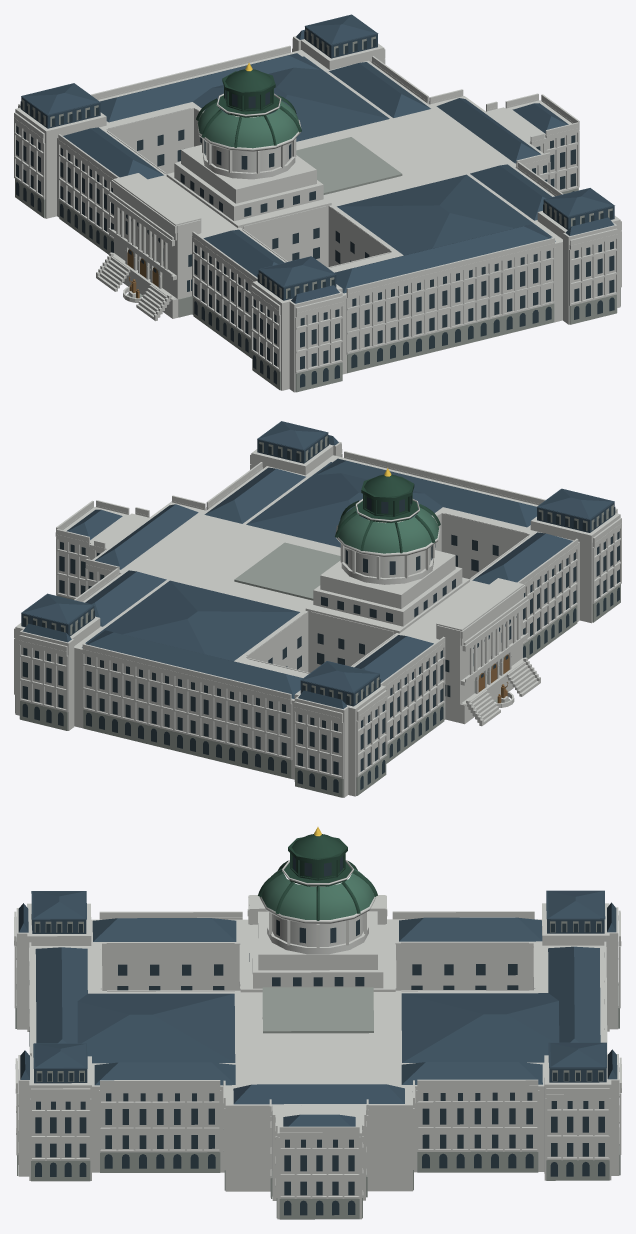
File: library-of-congress-jefferson-far.glb
3 views of the same model, one above another, from view 1: azimuth 30°, elevation 25°; view 2: azimuth 150°, elevation 25°; view 3: azimuth 270°, elevation 25° (orthographic). The views are drawn at different scales.
Visible parts, largest first — view 1: library-of-congress-jefferson-0-stone, library-of-congress-jefferson-0-roof, library-of-congress-jefferson-0-light, library-of-congress-jefferson-0-stone2, library-of-congress-jefferson-0-copper, library-of-congress-jefferson-0-patina; view 2: library-of-congress-jefferson-0-stone, library-of-congress-jefferson-0-roof, library-of-congress-jefferson-0-light, library-of-congress-jefferson-0-stone2, library-of-congress-jefferson-0-copper, library-of-congress-jefferson-0-patina; view 3: library-of-congress-jefferson-0-stone, library-of-congress-jefferson-0-roof, library-of-congress-jefferson-0-light, library-of-congress-jefferson-0-stone2, library-of-congress-jefferson-0-copper, library-of-congress-jefferson-0-patina.
Boxes of the visible parts, x1,y1,x2,y2 form: library-of-congress-jefferson-0-stone: (14, 36, 621, 392); library-of-congress-jefferson-0-roof: (21, 14, 614, 303); library-of-congress-jefferson-0-light: (16, 31, 614, 387); library-of-congress-jefferson-0-stone2: (15, 29, 620, 392); library-of-congress-jefferson-0-copper: (197, 98, 299, 148); library-of-congress-jefferson-0-patina: (196, 69, 301, 147); library-of-congress-jefferson-0-stone: (14, 441, 621, 797); library-of-congress-jefferson-0-roof: (21, 421, 614, 708); library-of-congress-jefferson-0-light: (22, 437, 619, 792); library-of-congress-jefferson-0-stone2: (15, 435, 620, 797); library-of-congress-jefferson-0-copper: (337, 504, 438, 553); library-of-congress-jefferson-0-patina: (335, 474, 440, 553); library-of-congress-jefferson-0-stone: (14, 860, 621, 1219); library-of-congress-jefferson-0-roof: (18, 890, 617, 1126); library-of-congress-jefferson-0-light: (29, 856, 605, 1215); library-of-congress-jefferson-0-stone2: (15, 914, 620, 1219); library-of-congress-jefferson-0-copper: (261, 868, 374, 919); library-of-congress-jefferson-0-patina: (258, 834, 377, 920).
Size of the model in its own units: 131 by 59.44 by 145.
